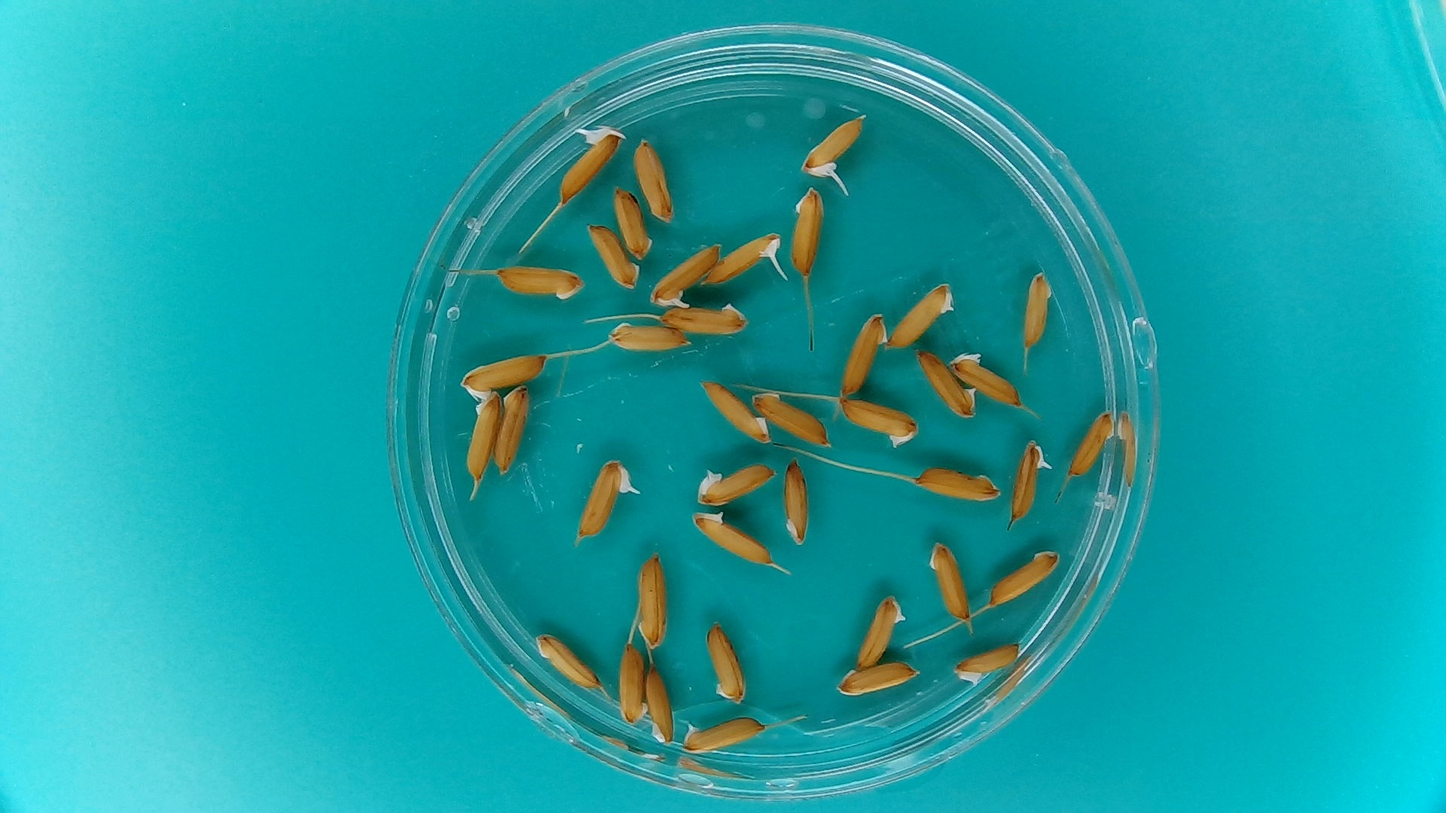no: (746, 388, 836, 452), (987, 546, 1068, 612), (697, 378, 775, 446), (883, 282, 956, 351), (689, 509, 775, 567), (914, 346, 978, 420), (949, 353, 1026, 413), (837, 394, 920, 449), (851, 593, 908, 673), (532, 630, 603, 694), (837, 310, 887, 395), (926, 537, 973, 627), (703, 622, 752, 707), (911, 464, 1002, 509), (586, 222, 642, 291), (680, 714, 774, 755), (694, 462, 779, 507), (458, 354, 549, 396), (632, 138, 675, 225), (492, 382, 532, 474), (789, 184, 827, 279), (633, 553, 669, 652), (493, 264, 586, 302), (465, 388, 502, 481), (1068, 409, 1117, 478), (953, 641, 1023, 688), (610, 187, 653, 261), (615, 642, 651, 729), (657, 302, 749, 336), (836, 661, 920, 698), (641, 667, 679, 745), (603, 320, 695, 352), (782, 456, 812, 549), (1023, 269, 1054, 352)
yes: (648, 242, 722, 314), (700, 229, 779, 287), (575, 458, 631, 537), (563, 128, 618, 201), (802, 115, 864, 176), (1009, 438, 1048, 519)
